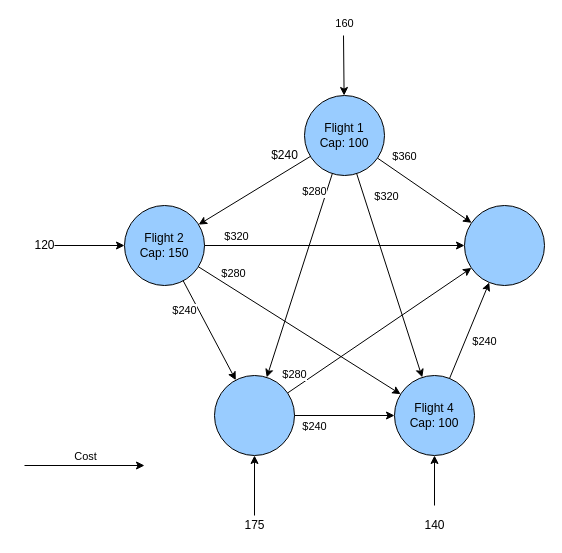
Some shapes in this 562 by 553 pixel diagram are drawn without their labels. The centre of each missing label's shape, as x and y in pixels:
"Flight 3 Cap: 150" belongs at [254,415].
"Flight 5 Cap: inf" belongs at [504,245].
